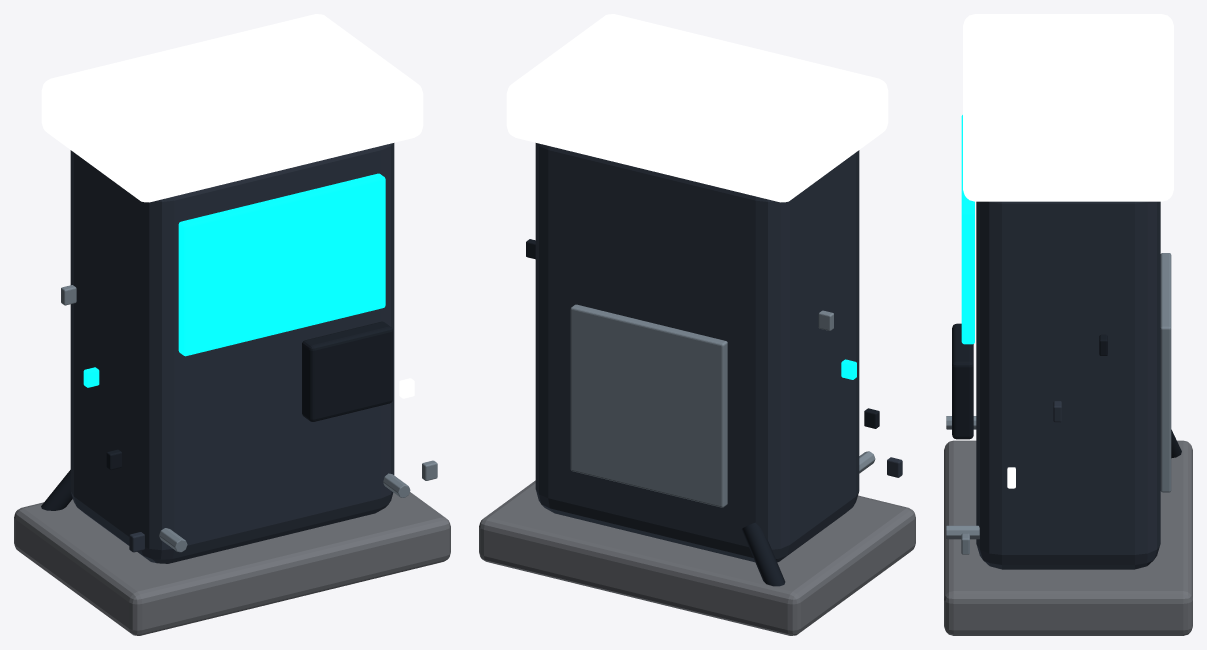
The model's file is infrastructure_techtown-data-fire-extinguisher-cabinet-standard-052.glb.
3 views of the same model, side by side, from view 1: azimuth 30°, elevation 25°; view 2: azimuth 150°, elevation 25°; view 3: azimuth 270°, elevation 25° (orthographic).
Parts seen in each view (by area): view 1: component__structural_enclosure_or_frame__enclosure, component__safety_and_weather_protection__weather_hood, component__anchored_base_or_mount__base_mount, component__primary_operating_surface__operating_surface, component__user_control_or_connection__control, component__power_conduit_drainage_or_network_path__service_p; view 2: component__structural_enclosure_or_frame__enclosure, component__safety_and_weather_protection__weather_hood, component__anchored_base_or_mount__base_mount, component__service_access__service_access, component__power_conduit_drainage_or_network_path__service_p; view 3: component__structural_enclosure_or_frame__enclosure, component__safety_and_weather_protection__weather_hood, component__anchored_base_or_mount__base_mount, component__service_access__service_access, component__user_control_or_connection__control, component__primary_operating_surface__operating_surface, component__fasteners_and_identification__fastener.
Part boxes in pixels (box(x1,y1,x2,y2)): component__structural_enclosure_or_frame__enclosure: box(70, 143, 394, 563); component__safety_and_weather_protection__weather_hood: box(41, 14, 423, 202); component__anchored_base_or_mount__base_mount: box(14, 492, 450, 635); component__primary_operating_surface__operating_surface: box(178, 173, 385, 356); component__user_control_or_connection__control: box(302, 321, 392, 421); component__power_conduit_drainage_or_network_path__service_p: box(41, 470, 72, 510); component__structural_enclosure_or_frame__enclosure: box(535, 143, 859, 562); component__safety_and_weather_protection__weather_hood: box(506, 14, 888, 202); component__anchored_base_or_mount__base_mount: box(479, 480, 915, 635); component__service_access__service_access: box(570, 304, 727, 507); component__power_conduit_drainage_or_network_path__service_p: box(741, 522, 785, 586); component__structural_enclosure_or_frame__enclosure: box(976, 201, 1160, 569); component__safety_and_weather_protection__weather_hood: box(963, 14, 1173, 201); component__anchored_base_or_mount__base_mount: box(944, 440, 1192, 635); component__service_access__service_access: box(1160, 253, 1171, 492); component__user_control_or_connection__control: box(952, 323, 973, 439); component__primary_operating_surface__operating_surface: box(961, 115, 974, 344); component__fasteners_and_identification__fastener: box(946, 525, 979, 539).
Size of the model in its own units: 1.1 by 1.57 by 0.736.
